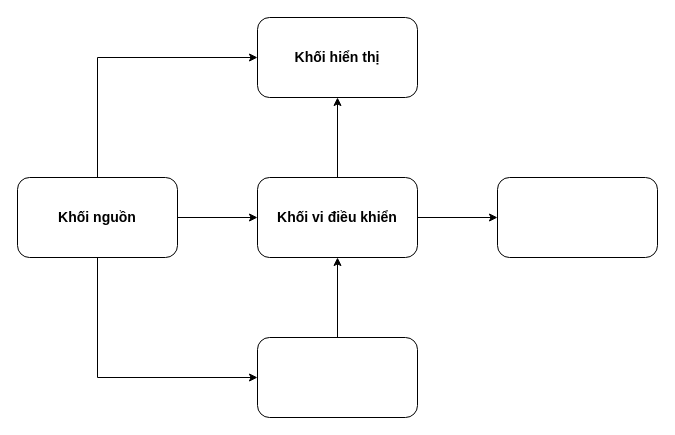
The diagram is 675 pixels wide and 435 high, and some of its shapes have lost their labels. The centre of each missing label's shape, as x and y in pixels:
"Khối cảm biến" belongs at pixel 337 377.
"Khối ngoại vi (Buzzer, button)" belongs at pixel 577 217.
